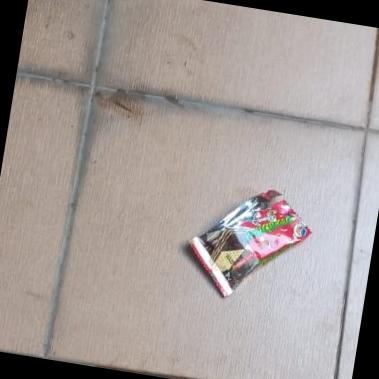Plastik: (181, 178, 318, 309)
